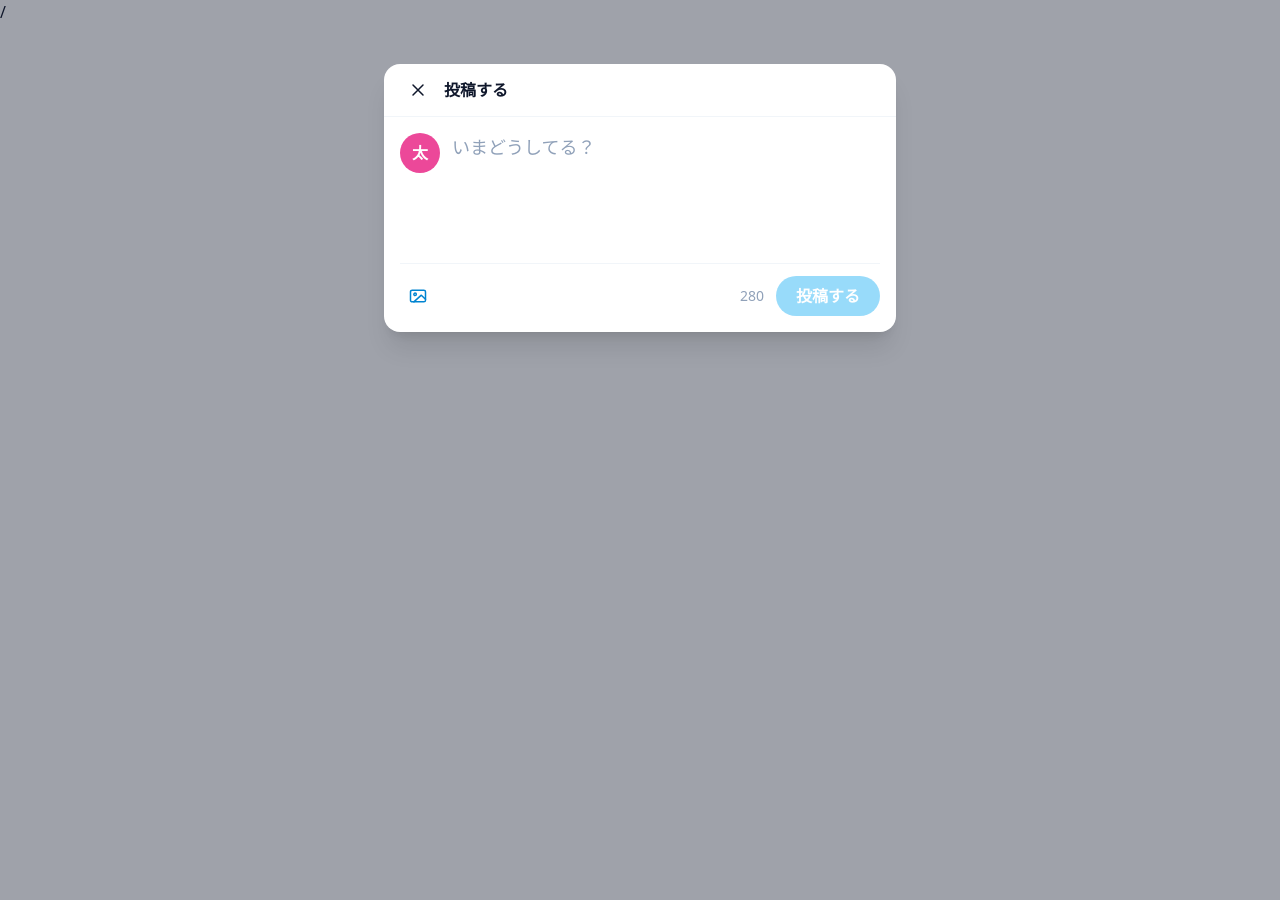
Scenario: ComposeModal › 残り文字数を数え、絵文字も 1 文字として数える
Expected: the text named "残り文字数" reads "280", [740, 286, 764, 305]
Type "こんにちは😀" into the text box with placeholder "いまどうしてる？" at (666,189), box [452, 133, 880, 245]
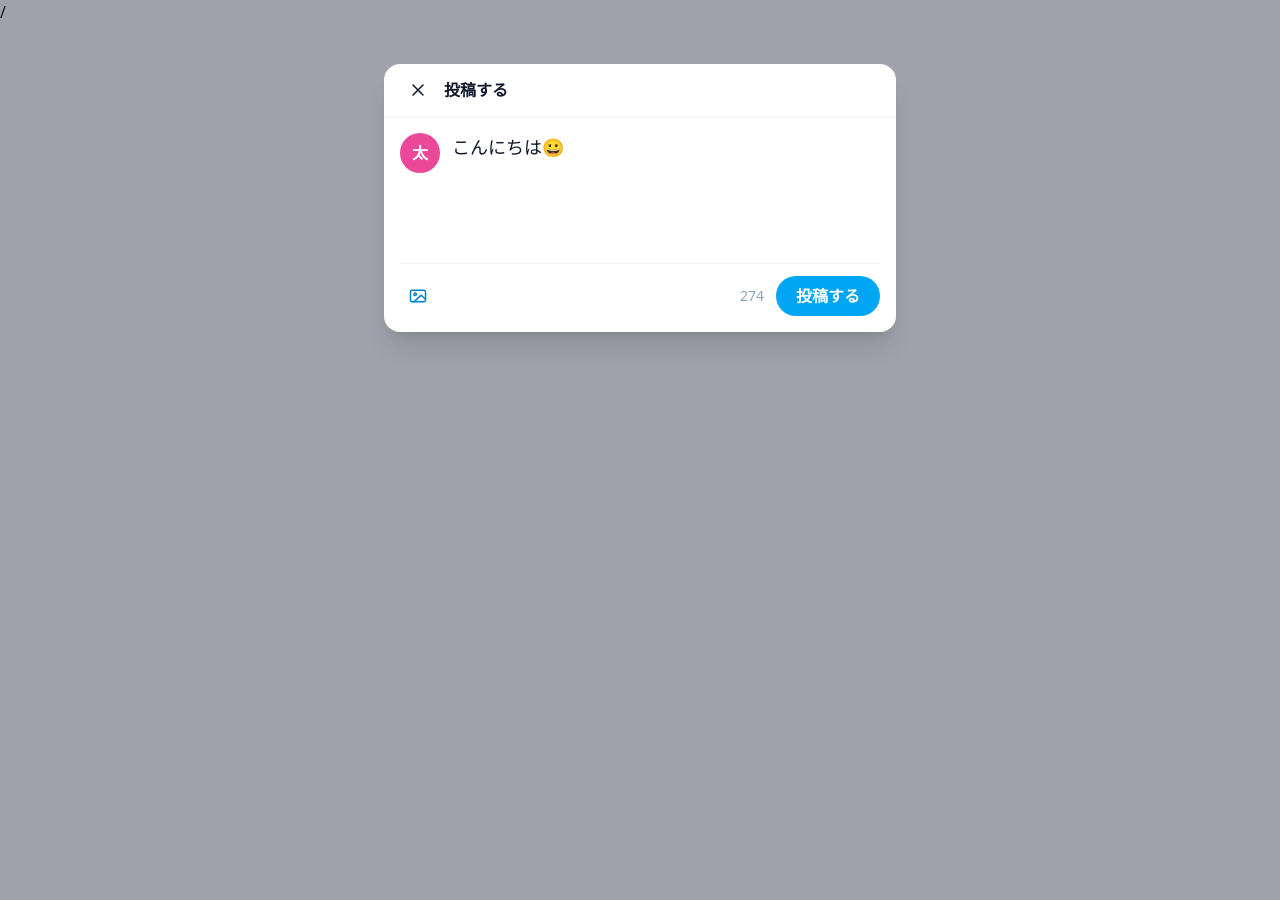
Expected: the text named "残り文字数" reads "274", [740, 286, 764, 305]
